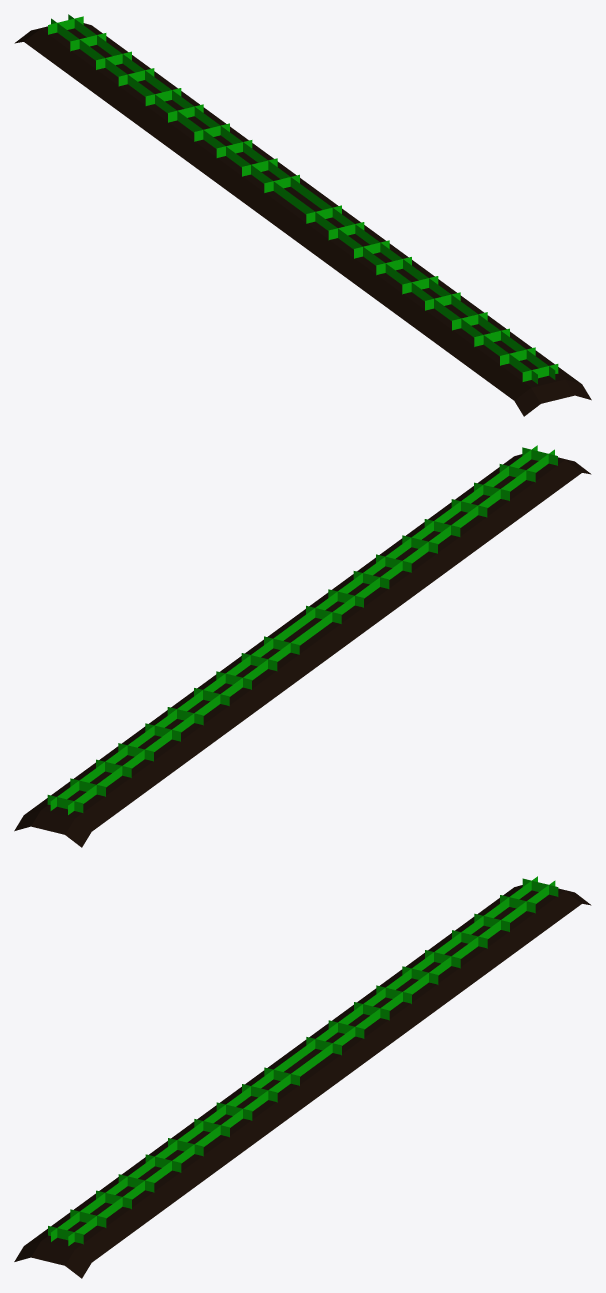
File: FieldWithCrops.obj
3 renders of one model, top to bottom at view 1: azimuth 30°, elevation 25°; view 2: azimuth 150°, elevation 25°; view 3: azimuth 330°, elevation 25°, orthographic.
Parts seen in each view (by area): view 1: Field_Plane, Crops_Plane.001; view 2: Field_Plane, Crops_Plane.001; view 3: Field_Plane, Crops_Plane.001.
Part boxes in pixels (bbox=[...]): Field_Plane: bbox=[14, 23, 591, 416]; Crops_Plane.001: bbox=[48, 14, 558, 383]; Field_Plane: bbox=[14, 454, 591, 847]; Crops_Plane.001: bbox=[47, 445, 557, 814]; Field_Plane: bbox=[14, 885, 591, 1278]; Crops_Plane.001: bbox=[48, 876, 558, 1245].
Size of the model in its own units: 8 by 3.1 by 104.
